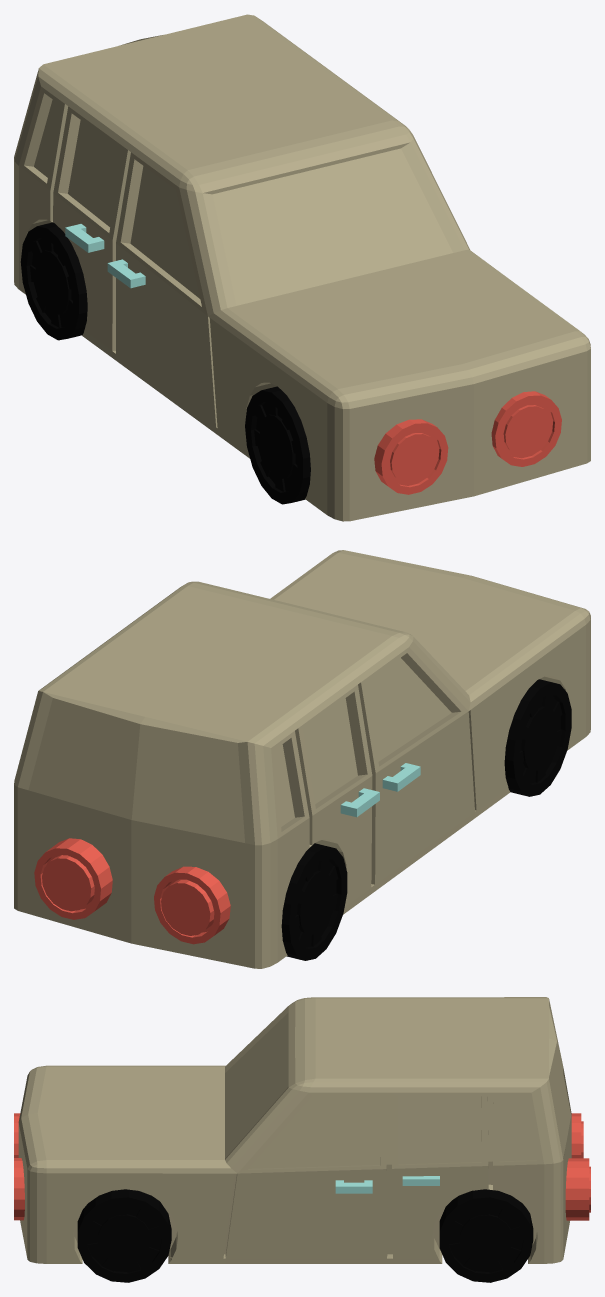
File: Game_car.glb
The picture shows the model from 3 angles, top to bottom: view 1: azimuth 30°, elevation 25°; view 2: azimuth 150°, elevation 25°; view 3: azimuth 270°, elevation 25°; orthographic projection. The views are drawn at different scales.
Parts seen in each view (by area): view 1: Cube, Cylinder.013, Cylinder.006, Cylinder.001, Cylinder, Cube.004; view 2: Cube, Cylinder.006, Cylinder.013, Cylinder.005, Cylinder.004, Cube.004, Cube.002; view 3: Cube, Cylinder.008, Cylinder.009, Cylinder.005, Cylinder, Cylinder.004, Cube.001, Cube.003.
Boxes of the visible parts, x1,y1,x2,y2 form: Cube: [14, 14, 590, 521]; Cylinder.013: [20, 222, 87, 340]; Cylinder.006: [245, 386, 310, 504]; Cylinder.001: [374, 419, 448, 494]; Cylinder: [491, 391, 561, 466]; Cube.004: [65, 224, 104, 252]; Cube: [14, 550, 590, 968]; Cylinder.006: [504, 679, 571, 796]; Cylinder.013: [281, 843, 347, 960]; Cylinder.005: [34, 838, 112, 919]; Cylinder.004: [154, 866, 230, 944]; Cube.004: [340, 788, 379, 817]; Cube.002: [382, 763, 420, 791]; Cube: [18, 997, 571, 1263]; Cylinder.008: [439, 1189, 533, 1282]; Cylinder.009: [77, 1189, 171, 1282]; Cylinder.005: [565, 1158, 590, 1220]; Cylinder: [14, 1158, 24, 1220]; Cylinder.004: [571, 1113, 583, 1158]; Cube.001: [335, 1180, 372, 1193]; Cube.003: [402, 1176, 439, 1185].
Bounding box in the file's own units: 1.93 × 1.49 × 4.1.
